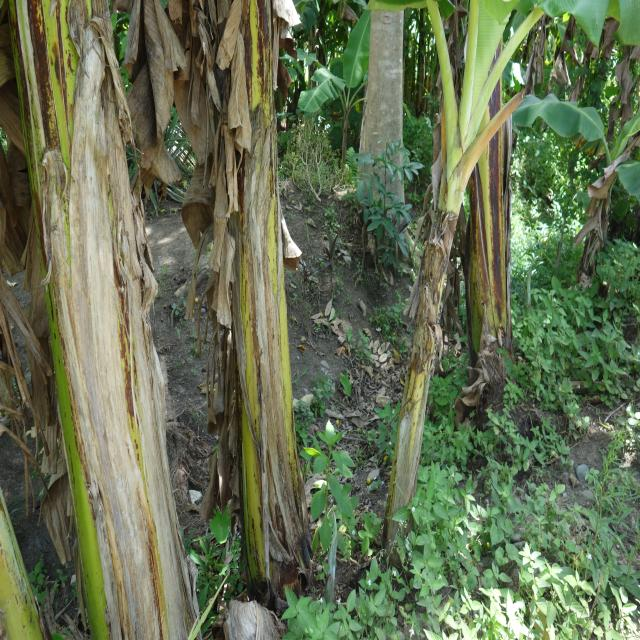Banana-plant: (2, 0, 200, 640), (215, 0, 318, 592), (367, 82, 491, 568), (451, 0, 529, 395)
